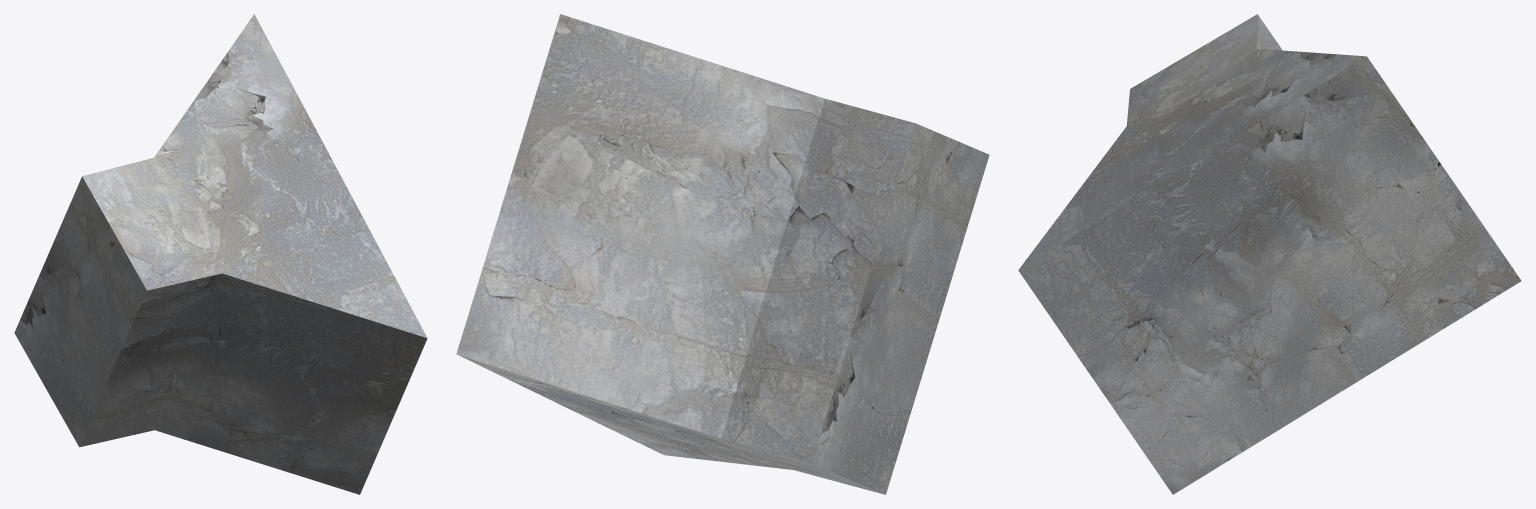
Rendered from MainMenu_AudioQuiet.fbx.
3 views of the same model, side by side, from view 1: azimuth 30°, elevation 25°; view 2: azimuth 150°, elevation 25°; view 3: azimuth 270°, elevation 25° (orthographic). The views are drawn at different scales.
Visible parts, largest first — view 1: SpeakerSilent; view 2: SpeakerSilent; view 3: SpeakerSilent.
Boxes of the visible parts, bbox=[...] form: SpeakerSilent: bbox=[14, 14, 427, 494]; SpeakerSilent: bbox=[456, 14, 989, 494]; SpeakerSilent: bbox=[1018, 14, 1521, 494].
Bounding box in the file's own units: 0.9155 × 1.53 × 1.62.
Materials: 1 (1 with a texture image).
